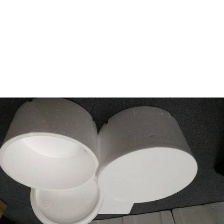foam_box: (97, 102, 201, 205), (0, 97, 99, 192), (25, 171, 107, 224), (93, 194, 135, 217)
